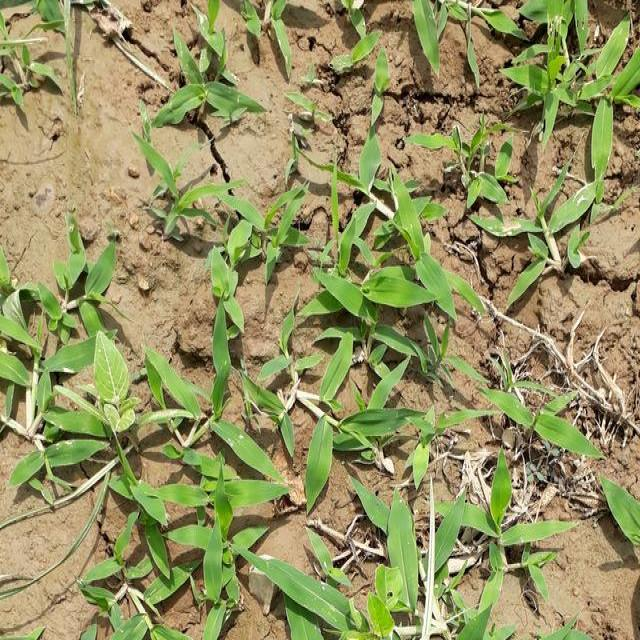weed: (6, 237, 546, 640), (403, 0, 636, 207)
